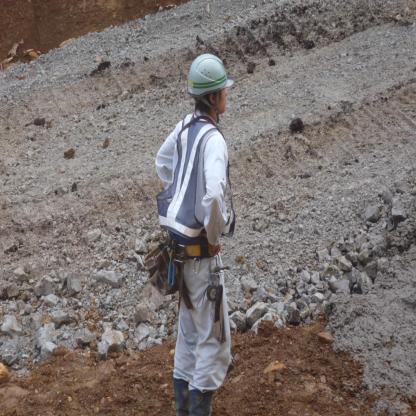person: (152, 42, 253, 416)
